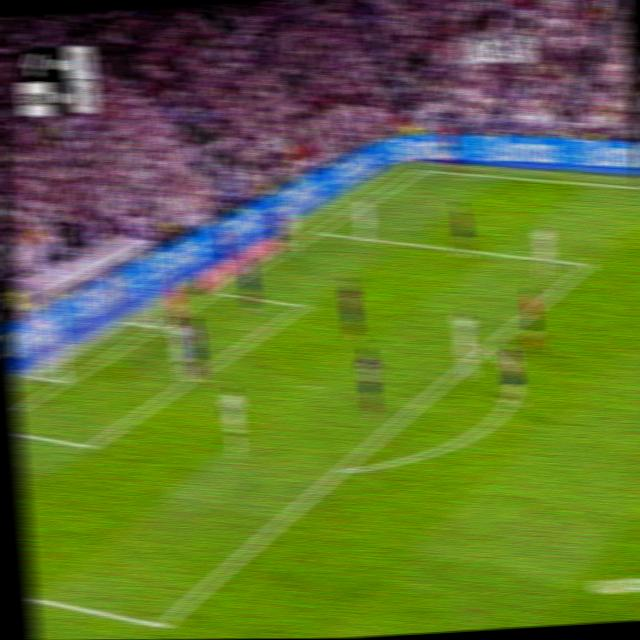bigarea_bottom_inner: (149, 606, 174, 639)
bigarea_top_inner: (579, 254, 595, 275)
bottom_arc_area_intersection: (331, 454, 353, 485)
corner: (412, 163, 431, 176)
smallarea_bottom_inner: (82, 433, 100, 459)
smallarea_top_inner: (294, 295, 310, 315)
top_arc_area_intersection: (478, 336, 496, 358)
